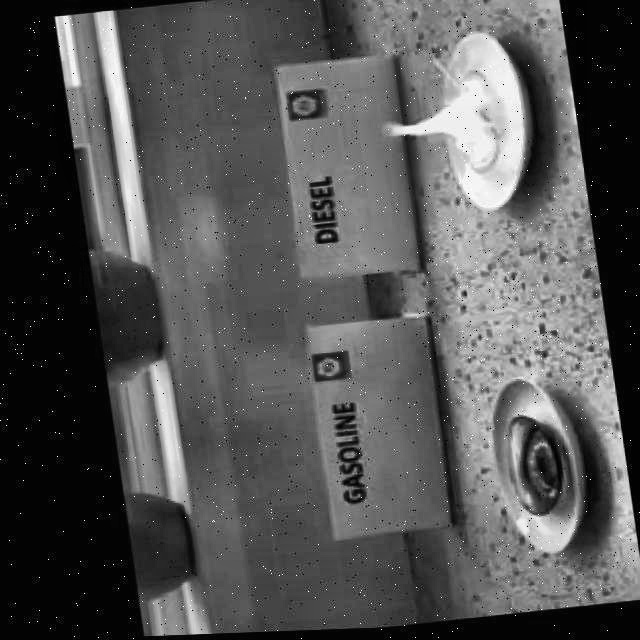Smoke: (361, 81, 504, 183)
